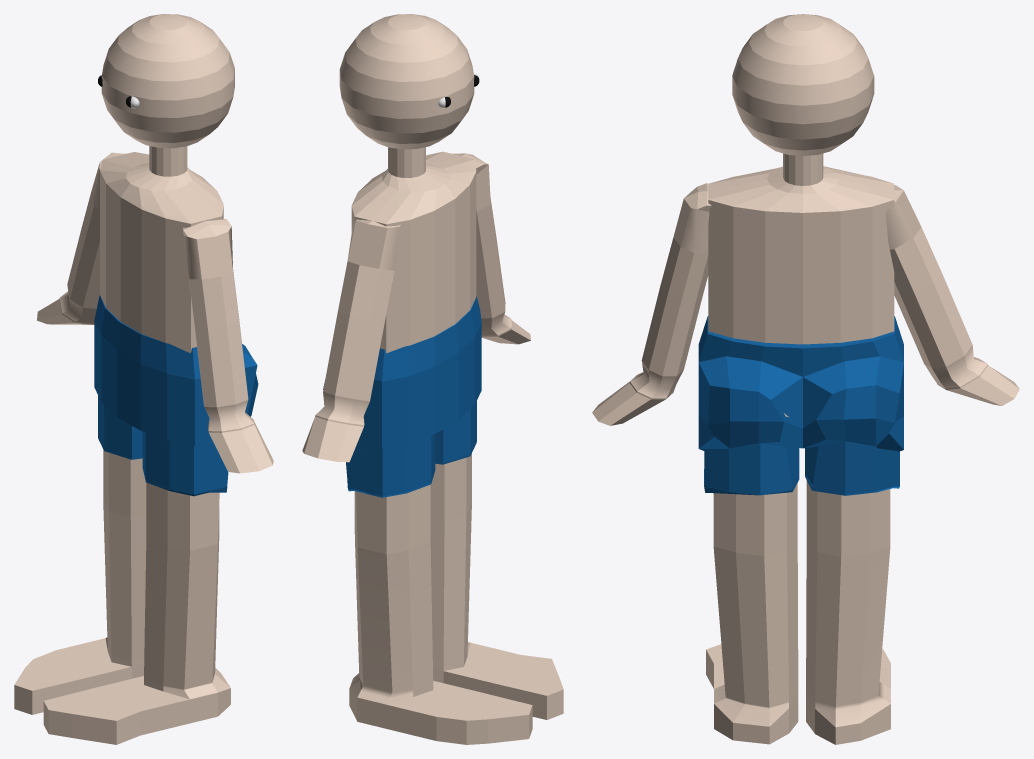
Rendered from human.fbx.
3 views of the same model, side by side, from view 1: azimuth 30°, elevation 25°; view 2: azimuth 150°, elevation 25°; view 3: azimuth 270°, elevation 25° (orthographic). The views are drawn at different scales.
Visible parts, largest first — view 1: pSphere27, pSphere28, pSphere33; view 2: pSphere27, pSphere28, pSphere33; view 3: pSphere27, pSphere28, pSphere33.
Boxes of the visible parts, x1,y1,x2,y2 form: pSphere27: (14,14,234,744); pSphere28: (94,294,258,496); pSphere33: (37,152,273,473); pSphere27: (339,14,563,744); pSphere28: (323,295,481,497); pSphere33: (302,153,530,462); pSphere27: (706,14,894,744); pSphere28: (698,316,903,495); pSphere33: (592,183,1019,425).
Bounding box in the file's own units: 3.37 × 10.85 × 5.96.
